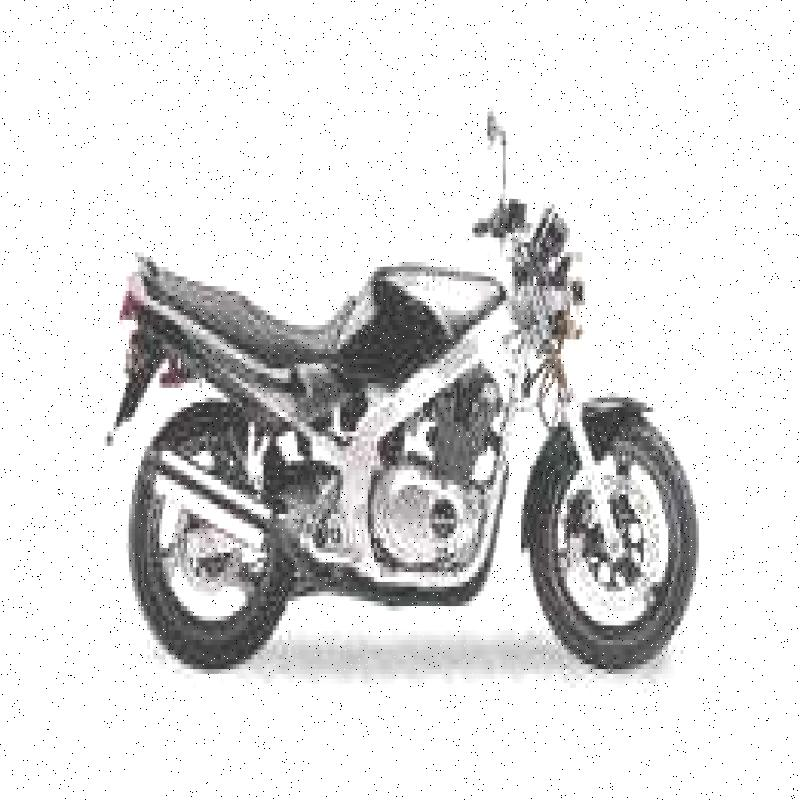bike: (104, 108, 707, 686)
